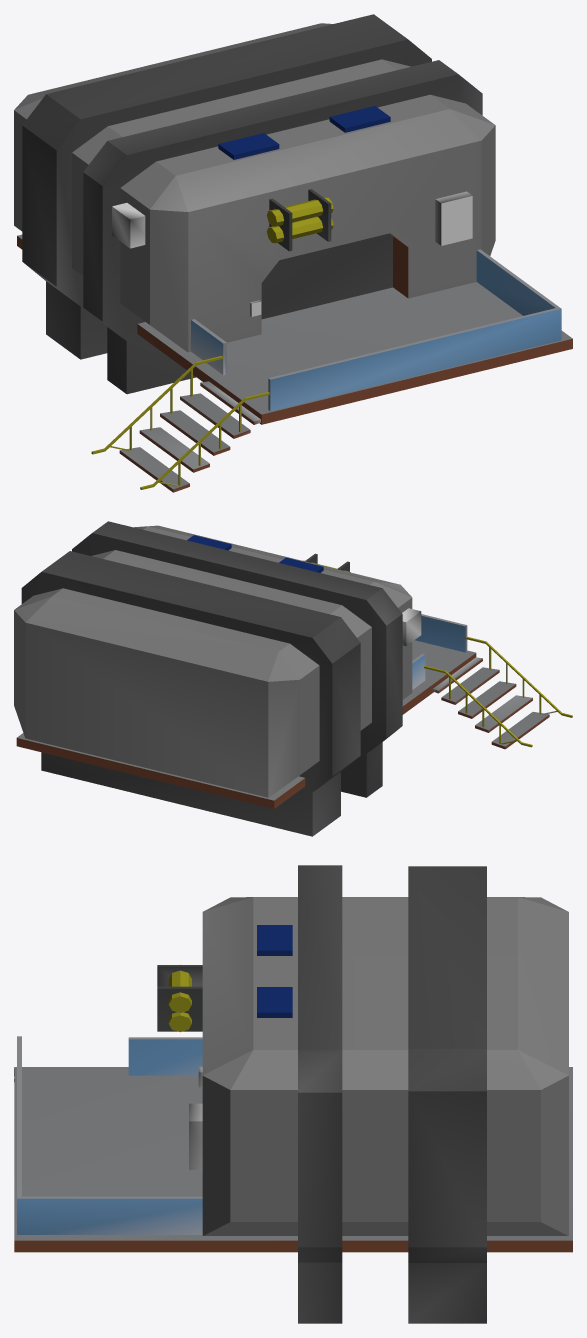
The model's file is edificacao2.fbx.
3 views of the same model, one above another, from view 1: azimuth 30°, elevation 25°; view 2: azimuth 150°, elevation 25°; view 3: azimuth 270°, elevation 25° (orthographic). The views are drawn at different scales.
Parts seen in each view (by area): view 1: edificacao2; view 2: edificacao2; view 3: edificacao2.
Part boxes in pixels (x1,y1,x2,y2): edificacao2: [14, 14, 572, 492]; edificacao2: [14, 521, 572, 836]; edificacao2: [14, 865, 572, 1323].
Bounding box in the file's own units: 1413 × 700 × 1291.
